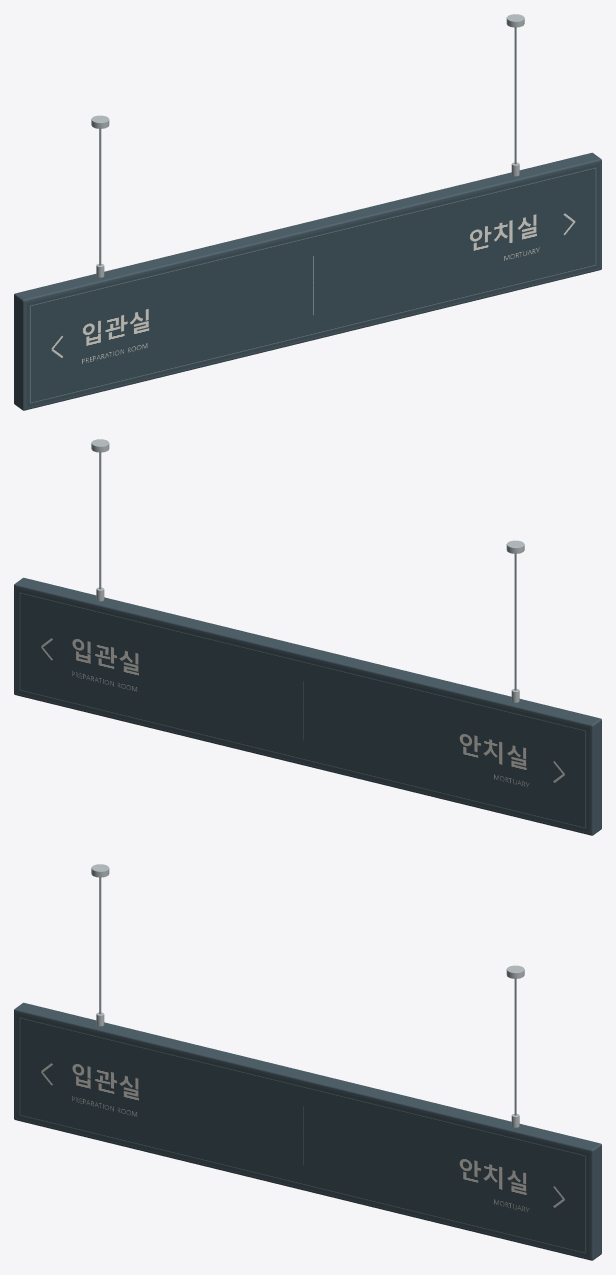
Rendered from Direction_B1.fbx.
The picture shows the model from 3 angles, top to bottom: view 1: azimuth 30°, elevation 25°; view 2: azimuth 150°, elevation 25°; view 3: azimuth 330°, elevation 25°; orthographic projection.
Parts seen in each view (by area): view 1: Direction_B1; view 2: Direction_B1; view 3: Direction_B1.
Boxes of the visible parts, x1,y1,x2,y2 form: Direction_B1: (14, 14, 601, 410); Direction_B1: (14, 439, 601, 835); Direction_B1: (14, 864, 601, 1260).
Bounding box in the file's own units: 1.2 × 0.532 × 0.037.
Materials: 4 (1 with a texture image).
